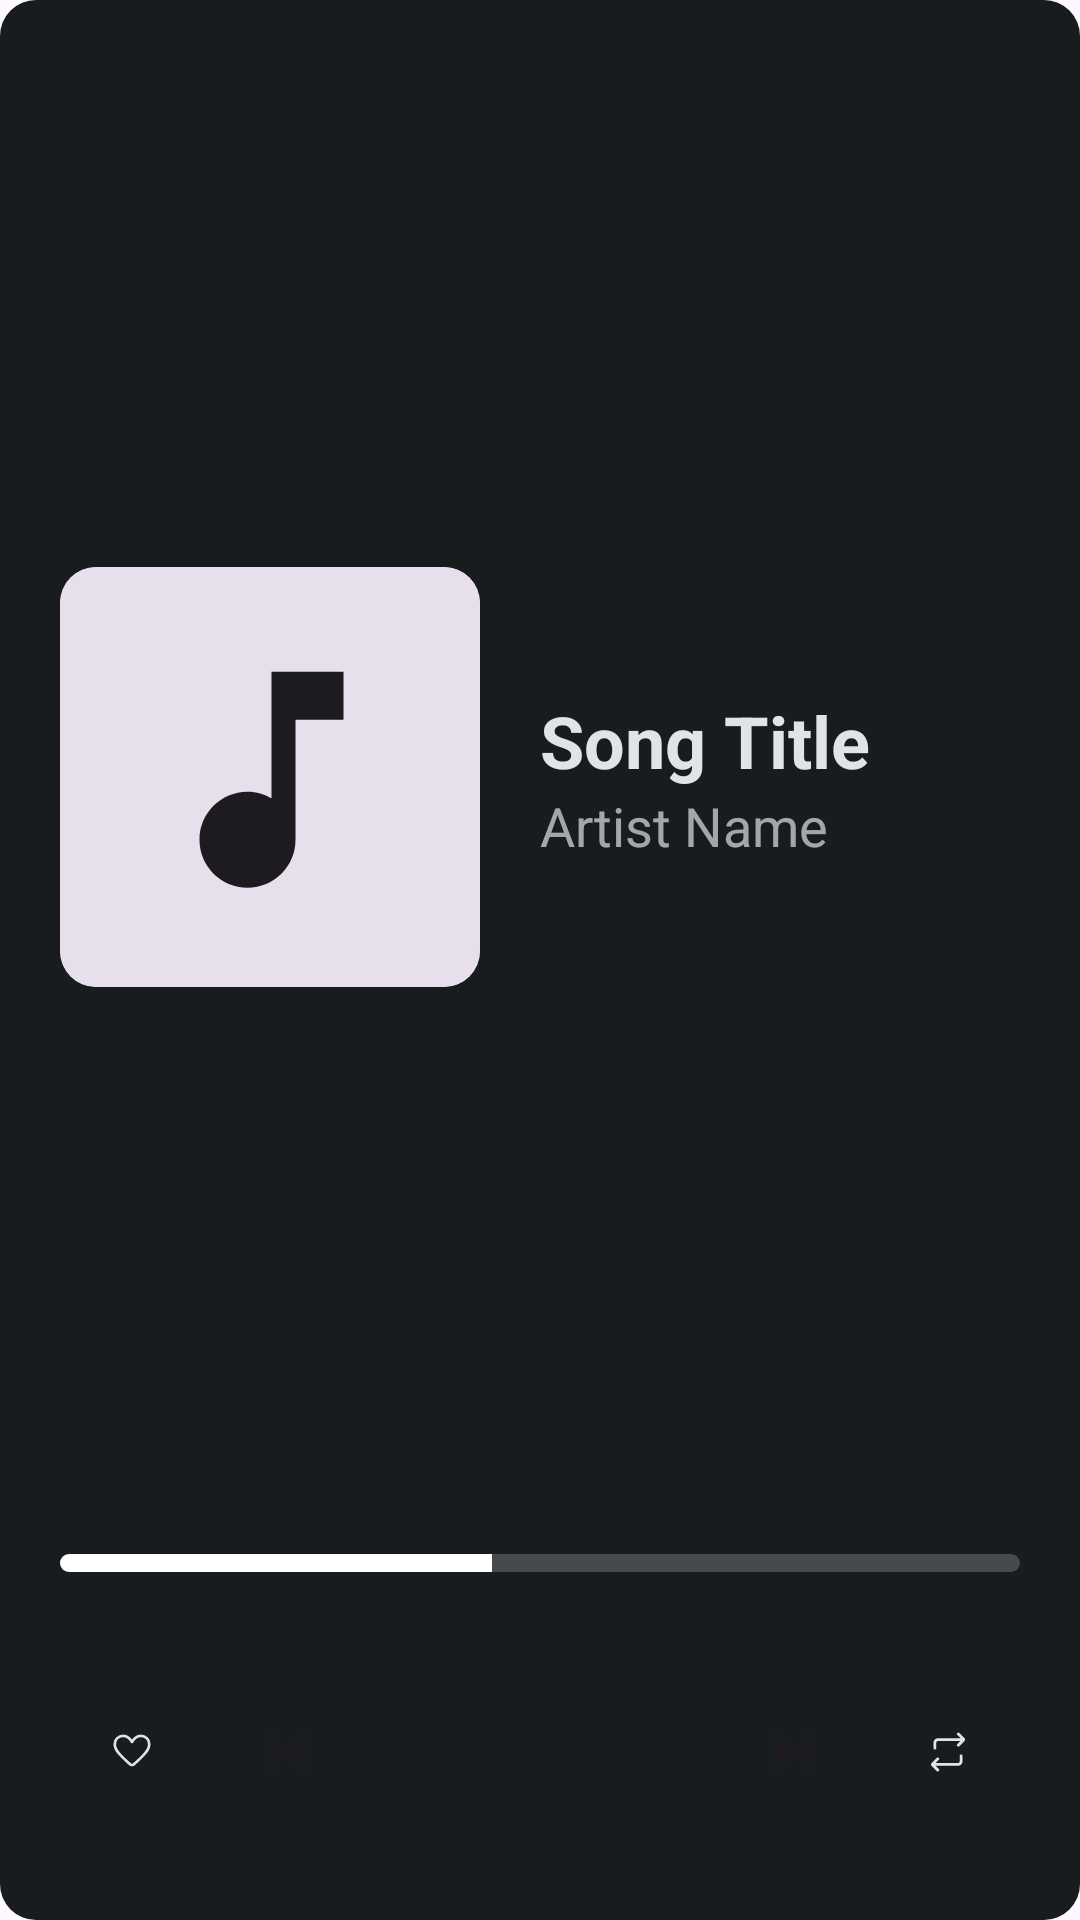

Icons on this 1080x1920 Android screen, each with the point to tap as [x,y]:
favorite border: [132,1750]
repeat noti: [948,1752]
